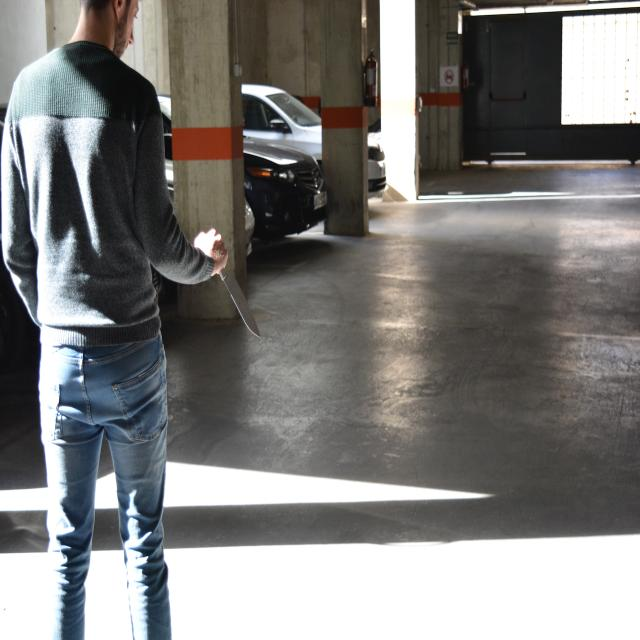knife: (219, 262, 265, 344)
